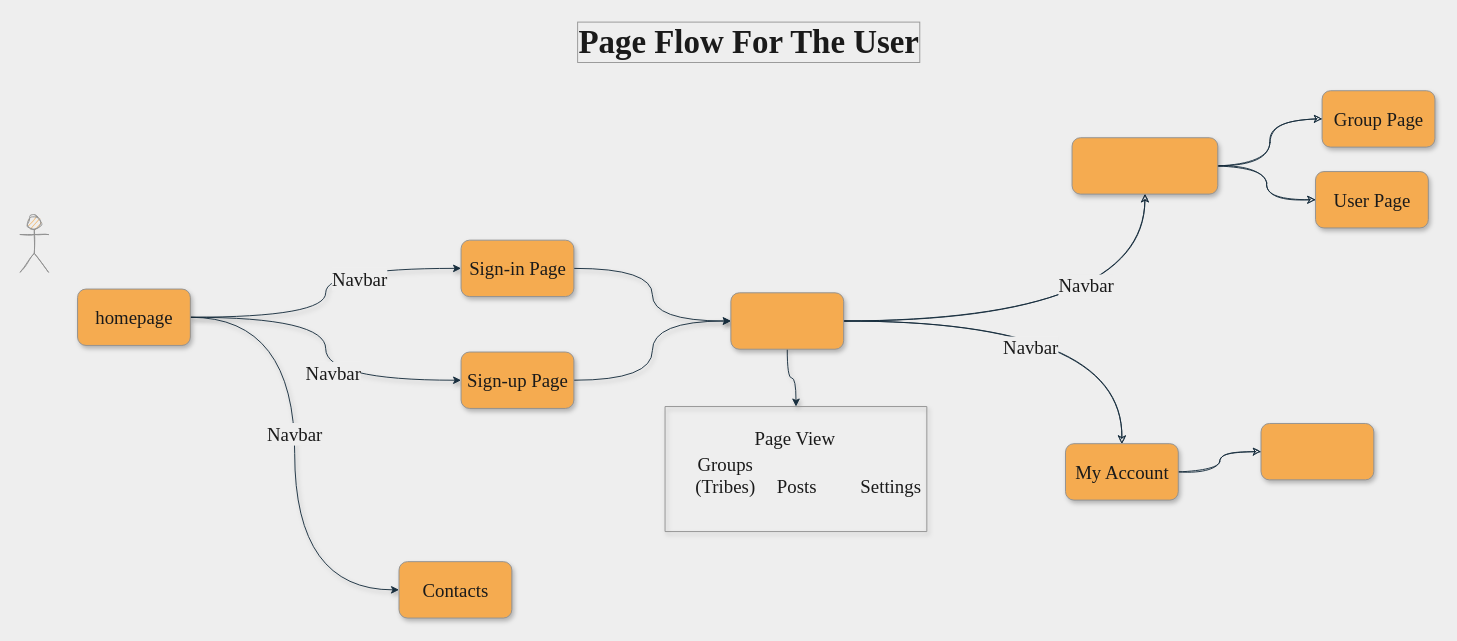
This 1457x641 diagram has some shape labels left out. Here are the shapes that lost their labels. From the top down, the centre of each, then its label:
point (1145, 167): Search-Box (Friends, Groups)
point (33, 243): User
point (787, 322): Main Page
point (1317, 452): Account Page
